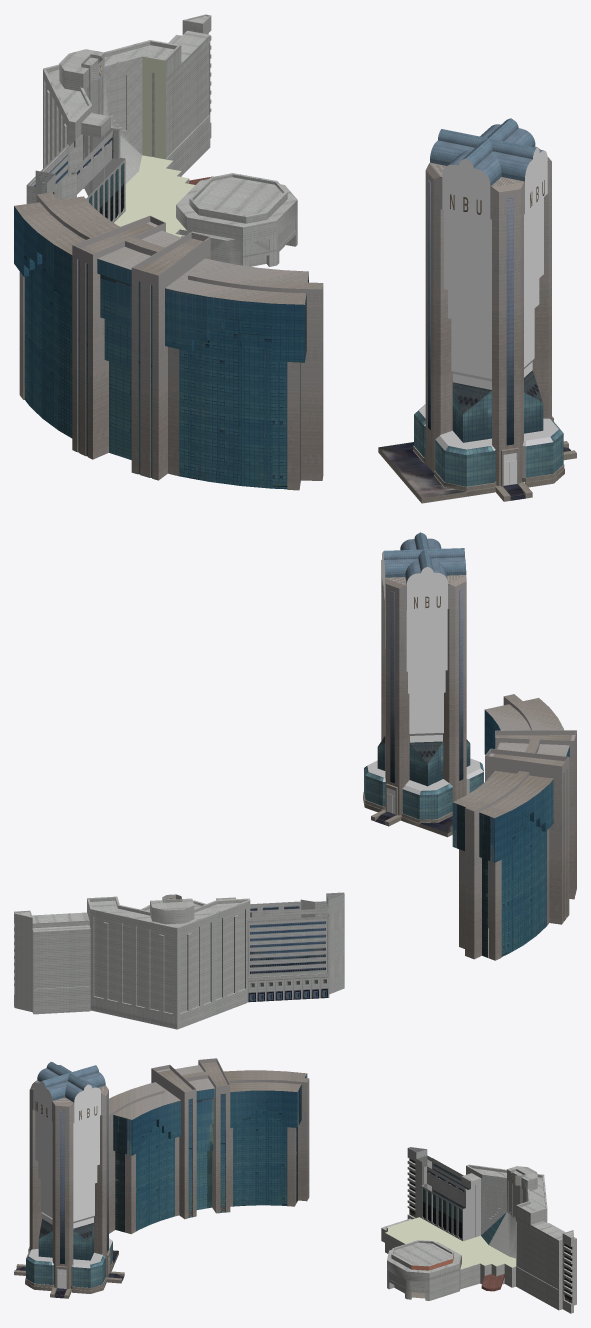
The model's file is nbu.glb.
3 renders of one model, top to bottom at view 1: azimuth 30°, elevation 25°; view 2: azimuth 150°, elevation 25°; view 3: azimuth 270°, elevation 25°, orthographic. The views are drawn at different scales.
Parts seen in each view (by area): view 1: Object_8, Object_31, Object_24, Object_17, Object_16, Object_64, Object_18, Object_68, Object_10, Object_15, Object_13, Object_208 (+11 smaller); view 2: Object_8, Object_31, Object_24, Object_37, Object_64, Object_68, Object_36, Object_42, Object_208, Object_17, Object_16, Object_9 (+4 smaller); view 3: Object_8, Object_31, Object_24, Object_17, Object_18, Object_16, Object_64, Object_36, Object_68, Object_21, Object_10, Object_32 (+14 smaller).
Part boxes in pixels (x1,y1,x2,y2): Object_8: (14, 146, 576, 503); Object_31: (26, 14, 297, 266); Object_24: (92, 56, 558, 477); Object_17: (42, 255, 240, 485); Object_16: (29, 263, 272, 488); Object_64: (414, 383, 563, 486); Object_18: (58, 293, 209, 481); Object_68: (430, 118, 543, 186); Object_10: (54, 245, 207, 351); Object_15: (24, 276, 287, 489); Object_13: (14, 206, 304, 362); Object_208: (428, 180, 513, 445); Object_8: (363, 560, 576, 960); Object_31: (14, 896, 328, 1029); Object_24: (367, 551, 483, 812); Object_37: (248, 918, 327, 977); Object_64: (364, 742, 483, 819); Object_68: (382, 532, 466, 584); Object_36: (162, 892, 344, 994); Object_42: (247, 906, 329, 1002); Object_208: (390, 588, 463, 783); Object_17: (488, 815, 536, 944); Object_16: (508, 829, 523, 953); Object_9: (452, 802, 494, 862); Object_8: (14, 1058, 309, 1298); Object_31: (381, 1159, 576, 1313); Object_24: (26, 1081, 515, 1286); Object_17: (149, 1102, 266, 1224); Object_18: (162, 1119, 250, 1220); Object_16: (139, 1110, 282, 1229); Object_64: (26, 1224, 112, 1287); Object_36: (407, 1147, 520, 1234); Object_68: (36, 1062, 105, 1114); Object_21: (188, 1093, 225, 1217); Object_10: (164, 1090, 250, 1139); Object_32: (422, 1188, 506, 1244).
Size of the model in its own units: 160 by 118 by 297.
Materials: 37 (36 with a texture image).
